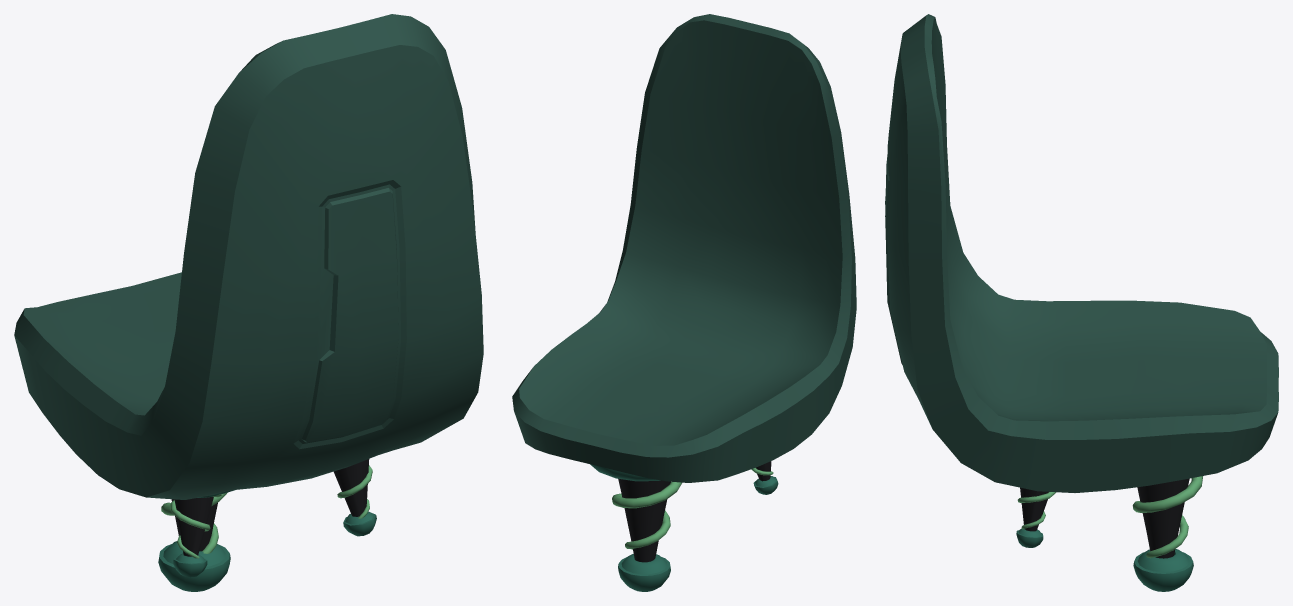
File: Furn_ChairFloating_Green_C.glb
3 views of the same model, side by side, from view 1: azimuth 30°, elevation 25°; view 2: azimuth 150°, elevation 25°; view 3: azimuth 270°, elevation 25° (orthographic). The views are drawn at different scales.
Visible parts, largest first — view 1: Furn_ChairFloating_Green_C.001; view 2: Furn_ChairFloating_Green_C.001; view 3: Furn_ChairFloating_Green_C.001.
Boxes of the visible parts, x1,y1,x2,y2 form: Furn_ChairFloating_Green_C.001: [14, 14, 483, 591]; Furn_ChairFloating_Green_C.001: [512, 14, 856, 591]; Furn_ChairFloating_Green_C.001: [885, 14, 1278, 591].
Bounding box in the file's own units: 0.3562 × 0.7057 × 0.4591.
